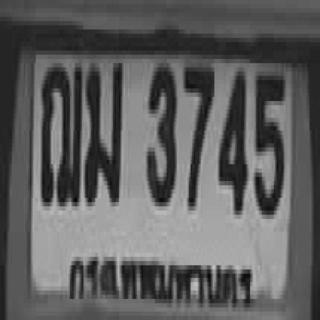A12: (39, 63, 81, 202)
A33: (83, 59, 122, 202)
N03: (146, 63, 176, 202)
N04: (217, 67, 246, 211)
N05: (253, 69, 283, 213)
N07: (183, 63, 213, 206)
P04: (62, 246, 257, 312)
